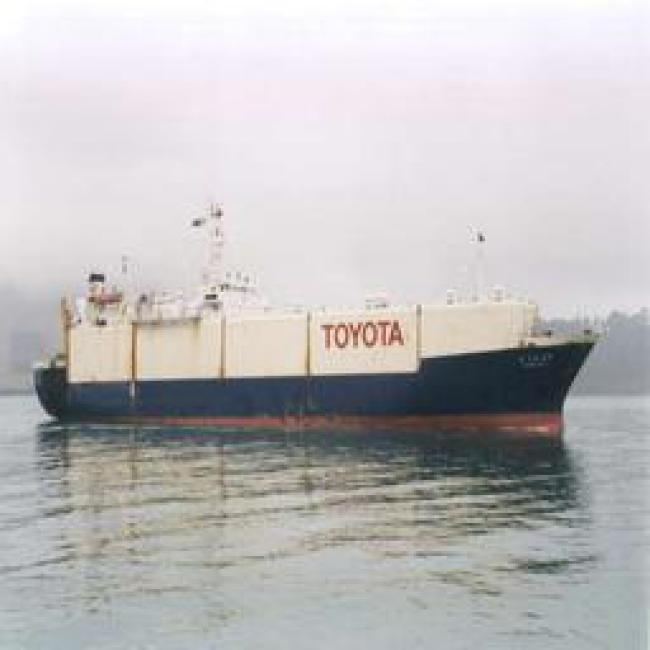Ship: (32, 267, 613, 443)
